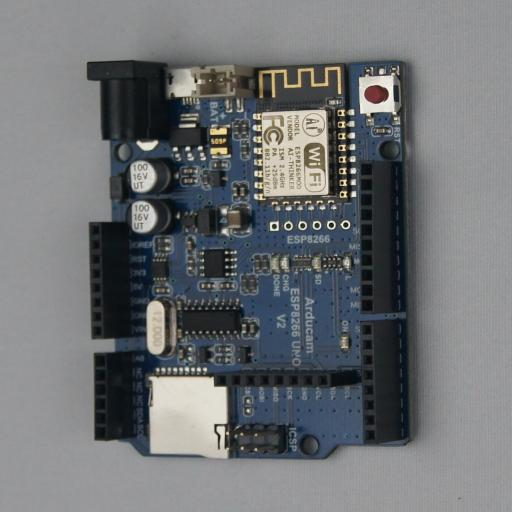Arduino Uno Camera Shield: (87, 58, 422, 460)
